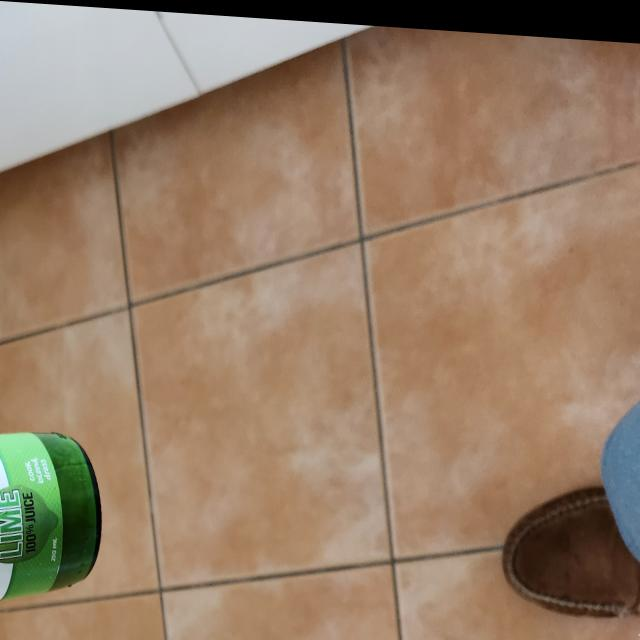lime juice: (0, 424, 101, 629)
